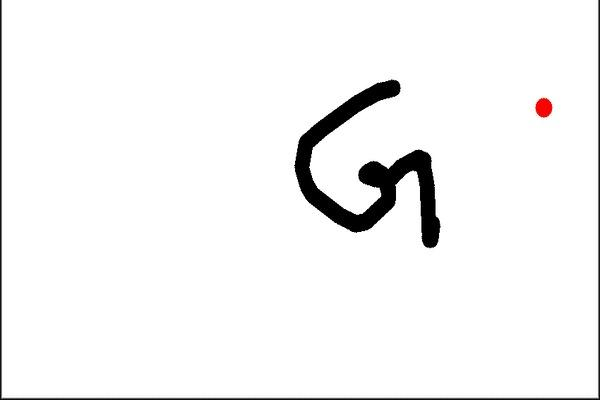G: (289, 69, 447, 256)
